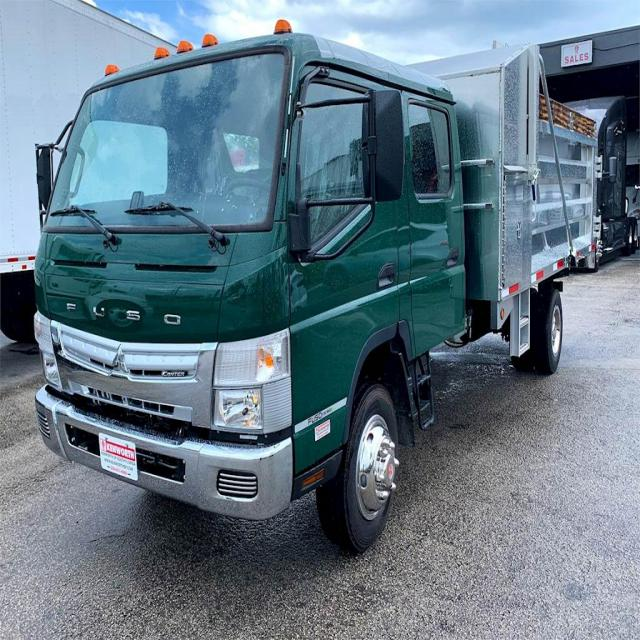truck: (33, 17, 602, 538)
